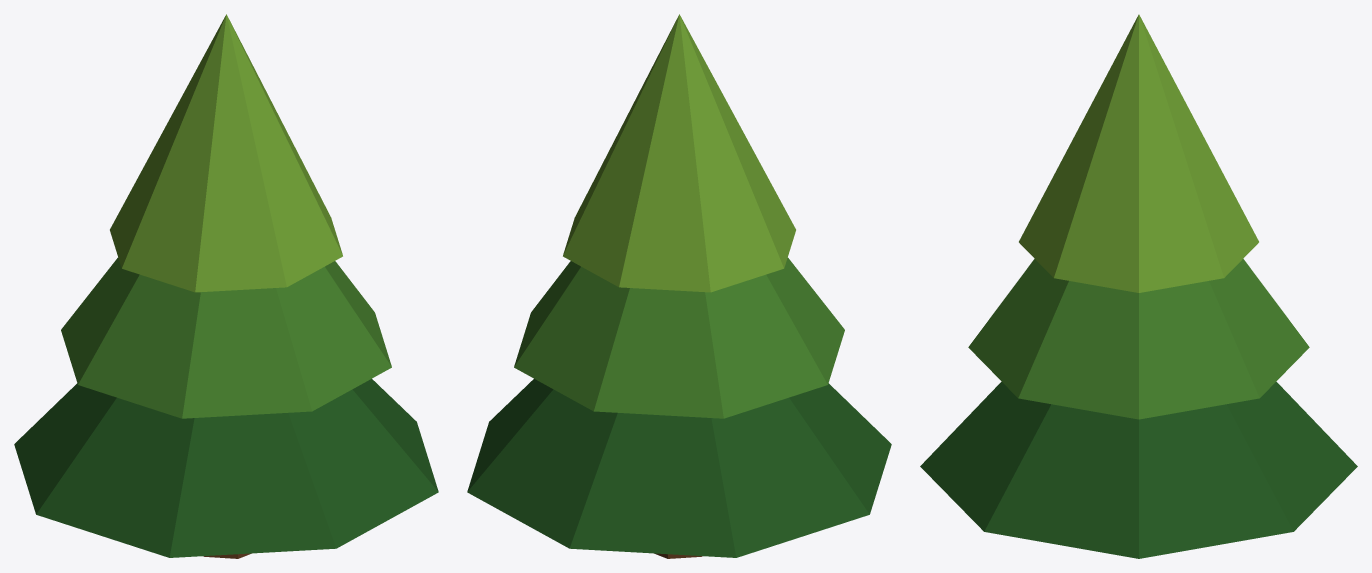
Rendered from fir.obj.
The picture shows the model from 3 angles, left to right: view 1: azimuth 30°, elevation 25°; view 2: azimuth 150°, elevation 25°; view 3: azimuth 270°, elevation 25°; orthographic projection.
Size of the model in its own units: 2 by 2.65 by 2.
4 materials, 4 textured.
